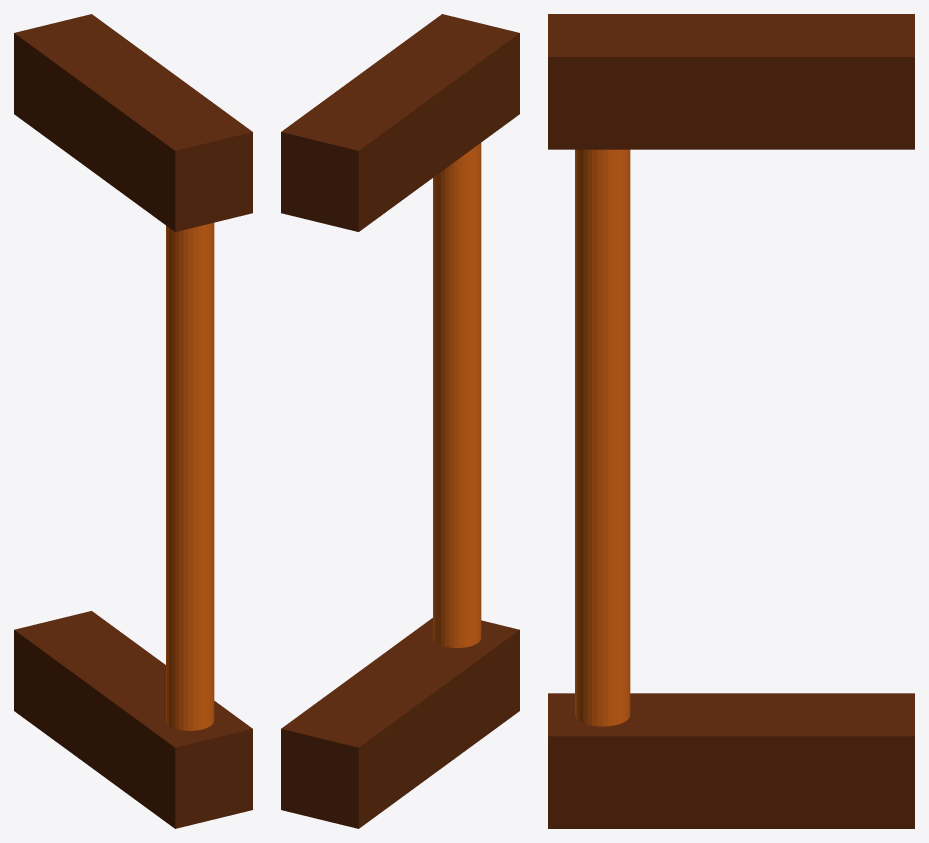
The model's file is handle.fbx.
3 views of the same model, side by side, from view 1: azimuth 30°, elevation 25°; view 2: azimuth 150°, elevation 25°; view 3: azimuth 270°, elevation 25° (orthographic). The views are drawn at different scales.
Parts seen in each view (by area): view 1: Handle; view 2: Handle; view 3: Handle.
Boxes of the visible parts, x1=… form: Handle: x1=14, y1=14, x2=252, y2=828; Handle: x1=281, y1=14, x2=519, y2=828; Handle: x1=548, y1=14, x2=914, y2=828.
Bounding box in the file's own units: 11.36 × 94.81 × 40.84.
